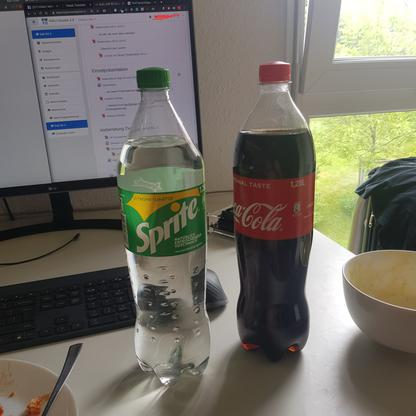coca-cola: (231, 60, 318, 367)
